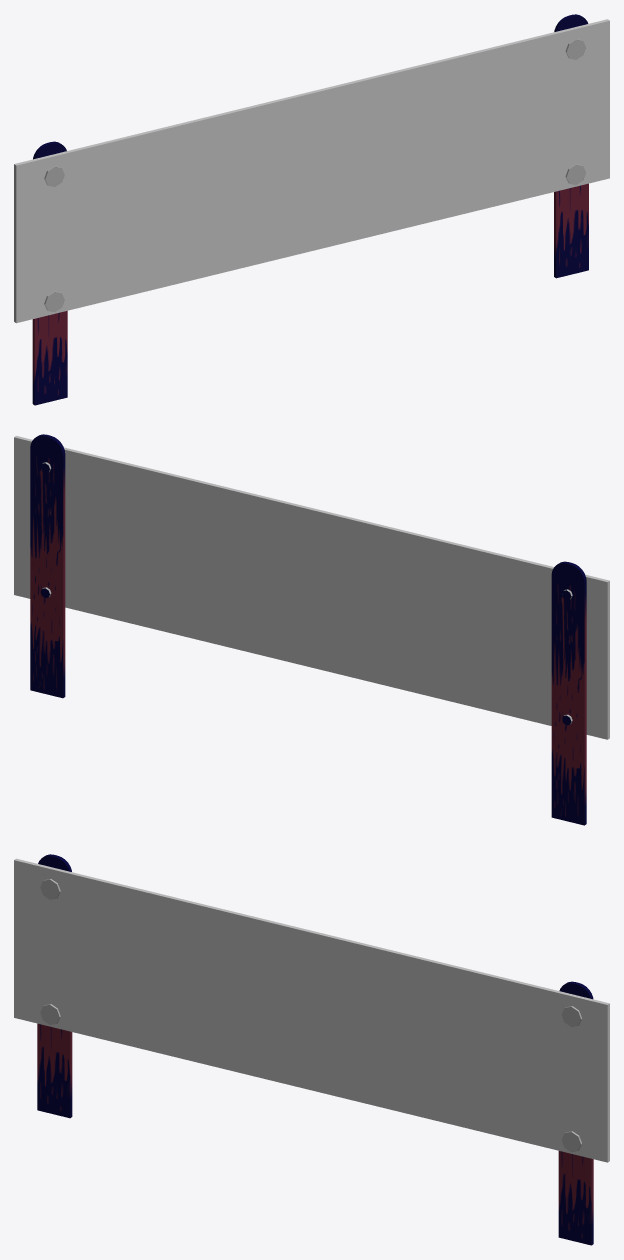
File: Standing Prop Large.fbx
3 renders of one model, top to bottom at view 1: azimuth 30°, elevation 25°; view 2: azimuth 150°, elevation 25°; view 3: azimuth 330°, elevation 25°, orthographic.
Parts seen in each view (by area): view 1: Sign.001, Popsicle.001, Popsicle.002; view 2: Sign.001, Popsicle.002, Popsicle.001; view 3: Sign.001, Popsicle.001, Popsicle.002.
Part boxes in pixels (x1,y1,x2,y2): Sign.001: (14, 19, 609, 323); Popsicle.001: (32, 141, 67, 405); Popsicle.002: (554, 14, 588, 278); Sign.001: (14, 436, 609, 739); Popsicle.002: (30, 434, 65, 698); Popsicle.001: (551, 561, 586, 825); Sign.001: (14, 858, 609, 1162); Popsicle.001: (37, 854, 72, 1118); Popsicle.002: (558, 981, 593, 1245).
Bounding box in the file's own units: 1205 × 499 × 25.72.
